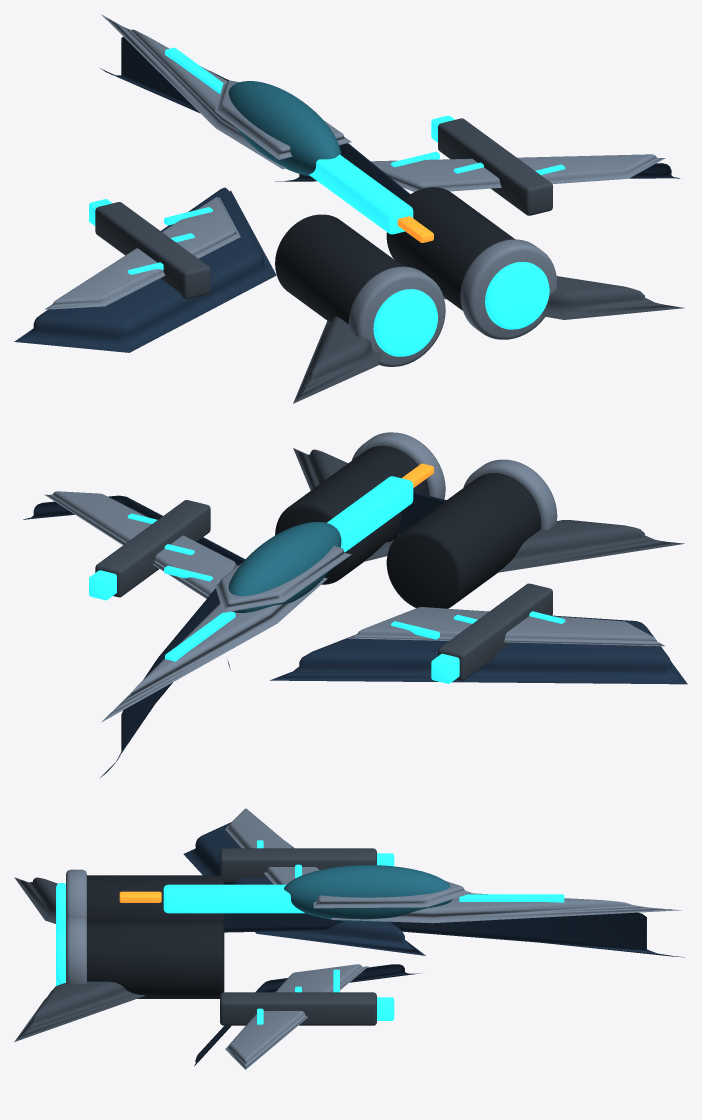
Rendered from player-fighter.glb.
3 views of the same model, one above another, from view 1: azimuth 30°, elevation 25°; view 2: azimuth 150°, elevation 25°; view 3: azimuth 270°, elevation 25° (orthographic). The views are drawn at different scales.
Visible parts, largest first — view 1: 左前掠翼, -1号矢量引擎, 1号矢量引擎, 右翼刃, 装甲座舱, 左翼刃, -1号重型轨道炮, 1号重型轨道炮, 1号引擎装甲环, -1号引擎装甲环, 左分裂尾翼, 背部能量脊 (+8 smaller); view 2: 左前掠翼, -1号矢量引擎, 1号矢量引擎, 左翼刃, 装甲座舱, 右翼刃, 左分裂尾翼, 机鼻钛甲, 1号重型轨道炮, -1号重型轨道炮, 背部能量脊, 中央主机身 (+8 smaller); view 3: 1号矢量引擎, 中央主机身, 装甲座舱, 1号重型轨道炮, -1号矢量引擎, 左前掠翼, 机鼻钛甲, 右翼刃, 背部能量脊, -1号重型轨道炮, 右分裂尾翼, 左翼刃 (+9 smaller).
Part boxes in pixels (left/top/right/bottom): 左前掠翼: left=14, top=187, right=276, bottom=352; -1号矢量引擎: left=275, top=214, right=403, bottom=324; 1号矢量引擎: left=386, top=187, right=515, bottom=310; 右翼刃: left=371, top=154, right=665, bottom=191; 装甲座舱: left=228, top=81, right=341, bottom=176; 左翼刃: left=44, top=197, right=240, bottom=309; -1号重型轨道炮: left=95, top=202, right=210, bottom=299; 1号重型轨道炮: left=438, top=118, right=552, bottom=215; 1号引擎装甲环: left=460, top=239, right=557, bottom=339; -1号引擎装甲环: left=349, top=266, right=445, bottom=366; 左分裂尾翼: left=293, top=316, right=381, bottom=403; 背部能量脊: left=309, top=154, right=413, bottom=234; 左前掠翼: left=270, top=610, right=687, bottom=684; -1号矢量引擎: left=386, top=473, right=541, bottom=608; 1号矢量引擎: left=275, top=445, right=429, bottom=584; 左翼刃: left=347, top=607, right=665, bottom=646; 装甲座舱: left=228, top=522, right=341, bottom=612; 右翼刃: left=44, top=491, right=237, bottom=598; 左分裂尾翼: left=498, top=520, right=684, bottom=572; 机鼻钛甲: left=101, top=577, right=327, bottom=722; 1号重型轨道炮: left=95, top=500, right=210, bottom=597; -1号重型轨道炮: left=438, top=583, right=552, bottom=680; 背部能量脊: left=327, top=476, right=413, bottom=552; 中央主机身: left=99, top=492, right=446, bottom=778; 1号矢量引擎: left=87, top=922, right=224, bottom=998; 中央主机身: left=224, top=912, right=684, bottom=957; 装甲座舱: left=284, top=865, right=452, bottom=922; 1号重型轨道炮: left=220, top=992, right=376, bottom=1025; -1号矢量引擎: left=87, top=875, right=224, bottom=925; 左前掠翼: left=183, top=822, right=425, bottom=955; 机鼻钛甲: left=331, top=893, right=681, bottom=923; 右翼刃: left=225, top=964, right=368, bottom=1069; 背部能量脊: left=163, top=884, right=304, bottom=913; -1号重型轨道炮: left=220, top=848, right=376, bottom=881; 右分裂尾翼: left=14, top=981, right=145, bottom=1041; 左翼刃: left=225, top=808, right=319, bottom=884.
Bounding box in the file's own units: 7.01 × 1.26 × 7.04.
